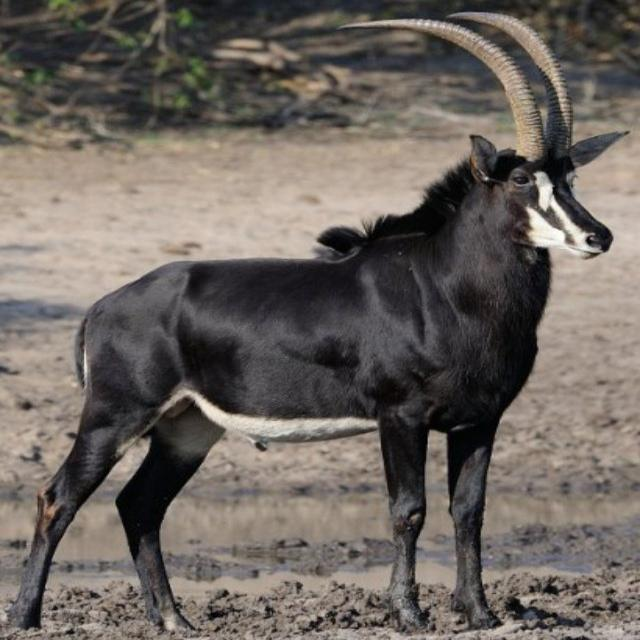Antelope: (11, 11, 627, 628)
